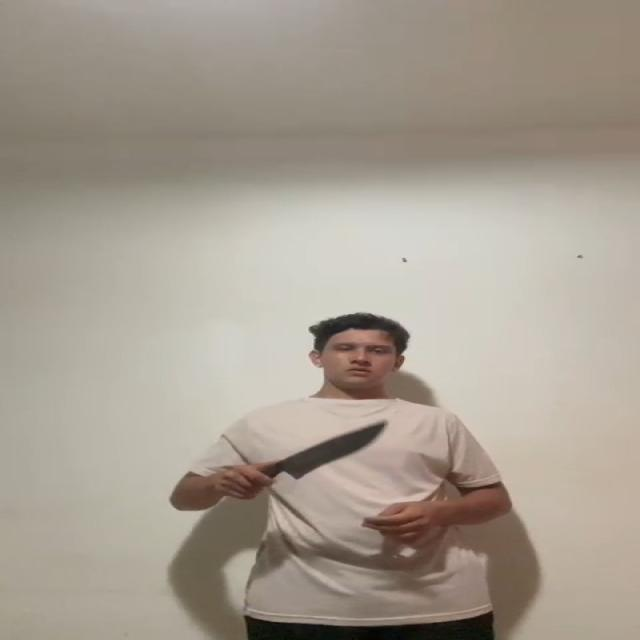knife: (284, 422, 386, 479)
